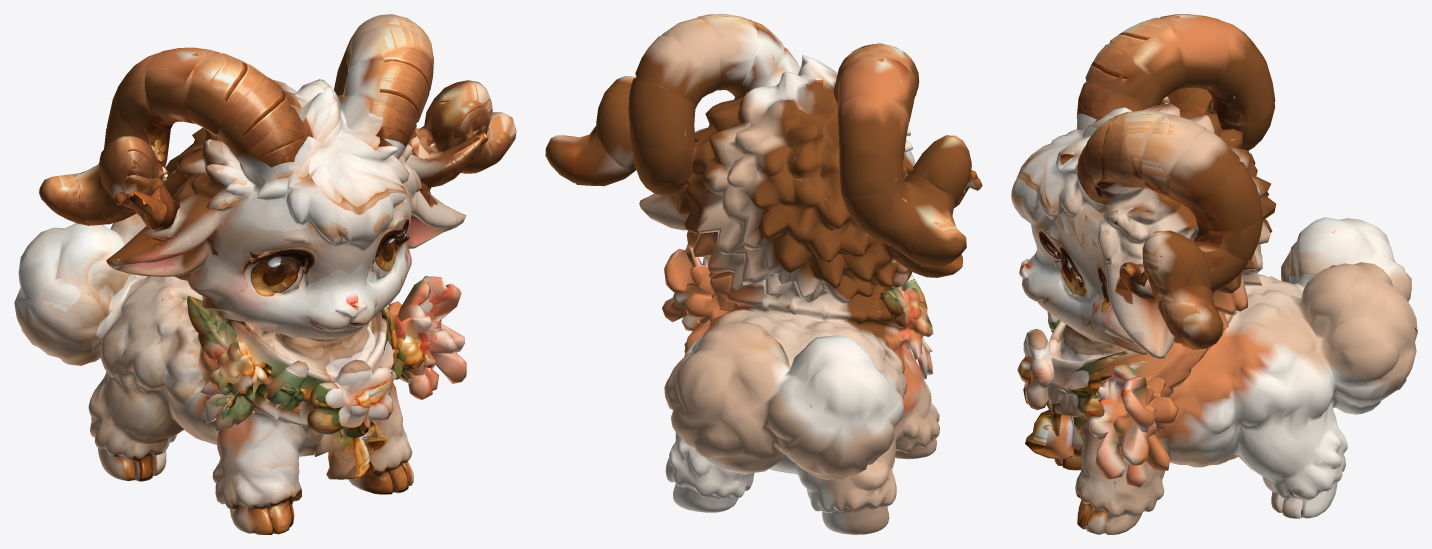
Rendered from original.glb.
The picture shows the model from 3 angles, left to right: view 1: azimuth 30°, elevation 25°; view 2: azimuth 150°, elevation 25°; view 3: azimuth 270°, elevation 25°; orthographic projection. The views are drawn at different scales.
Parts seen in each view (by area): view 1: Body; view 2: Body; view 3: Body.
Boxes of the visible parts, left/top/right/bottom form: Body: left=14, top=14, right=516, bottom=534; Body: left=545, top=14, right=982, bottom=534; Body: left=1011, top=14, right=1417, bottom=534.
Size of the model in its own units: 0.9996 by 0.9403 by 0.7933.
2 materials, 2 textured.
